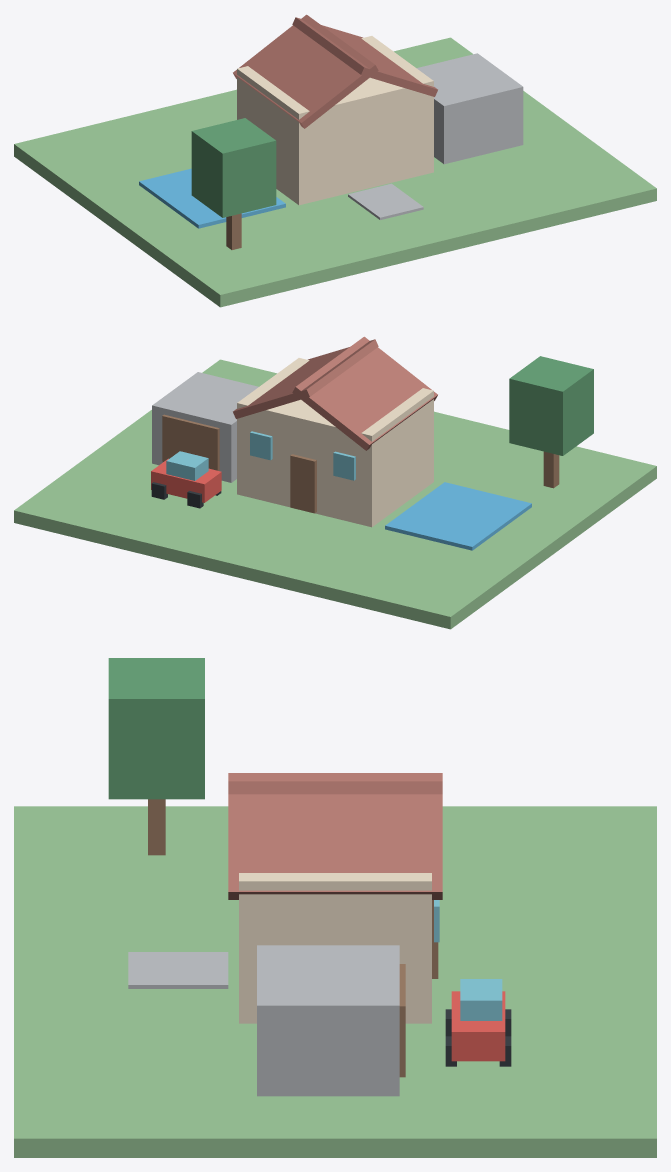
Rendered from villa.gltf.
The picture shows the model from 3 angles, top to bottom: view 1: azimuth 30°, elevation 25°; view 2: azimuth 150°, elevation 25°; view 3: azimuth 270°, elevation 25°; orthographic projection. The views are drawn at different scales.
Parts seen in each view (by area): view 1: Garden, Villa, Garage, Tree crown, Left roof, Right roof, Pool, Path, Tree trunk; view 2: Garden, Villa, Tree crown, Left roof, Pool, Garage, Right roof, Garage door, Car body, Door, Car cabin, Left window (+2 smaller); view 3: Garden, Garage, Right roof, Villa, Tree crown, Path, Left roof, Car body, Car cabin, Tree trunk, Garage door.
Boxes of the visible parts, x1,y1,x2,y2 form: Garden: (14,37,656,307); Villa: (237,36,433,205); Garage: (416,53,523,164); Tree crown: (191,118,276,217); Left roof: (233,14,378,128); Right roof: (292,17,437,96); Pool: (139,168,285,228); Path: (348,183,423,219); Tree trunk: (226,213,241,249); Garden: (14,359,656,629); Villa: (237,358,433,527); Tree crown: (509,356,593,455); Left roof: (292,336,437,450); Pool: (385,482,531,550); Garage: (152,372,258,482); Right roof: (233,339,378,418); Garage door: (162,414,219,470); Car body: (151,458,221,502); Door: (290,454,316,513); Car cabin: (166,451,208,480); Left window: (333,451,355,480); Garden: (14,806,656,1157); Garage: (257,945,399,1096); Right roof: (228,773,442,899); Villa: (239,873,431,1023); Tree crown: (108,658,204,799); Path: (128,952,228,988); Left roof: (228,781,442,794); Car body: (451,991,505,1061); Car cabin: (460,979,502,1020); Tree trunk: (148,799,165,855); Garage door: (399,964,405,1077).
Size of the model in its own units: 11 by 3.31 by 9.
